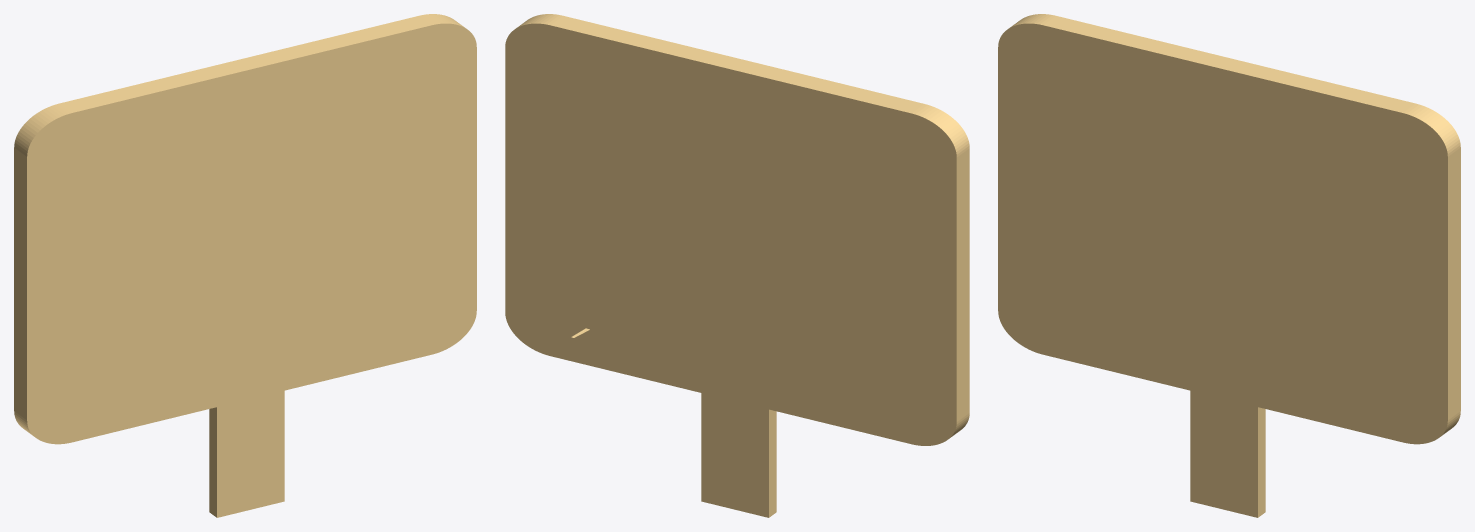
File: notiboard2.fbx
3 views of the same model, side by side, from view 1: azimuth 30°, elevation 25°; view 2: azimuth 150°, elevation 25°; view 3: azimuth 330°, elevation 25° (orthographic).
Visible parts, largest first — view 1: Cube.002, Cube.003; view 2: Cube.002, Cube.003; view 3: Cube.002, Cube.003.
Part boxes in pixels (x1,y1,x2,y2): Cube.002: (14,14,476,444); Cube.003: (209,390,284,517); Cube.002: (505,14,969,445); Cube.003: (701,393,776,517); Cube.002: (998,14,1460,444); Cube.003: (1190,390,1265,517).
Bounding box in the file's own units: 200 × 188 × 10.
